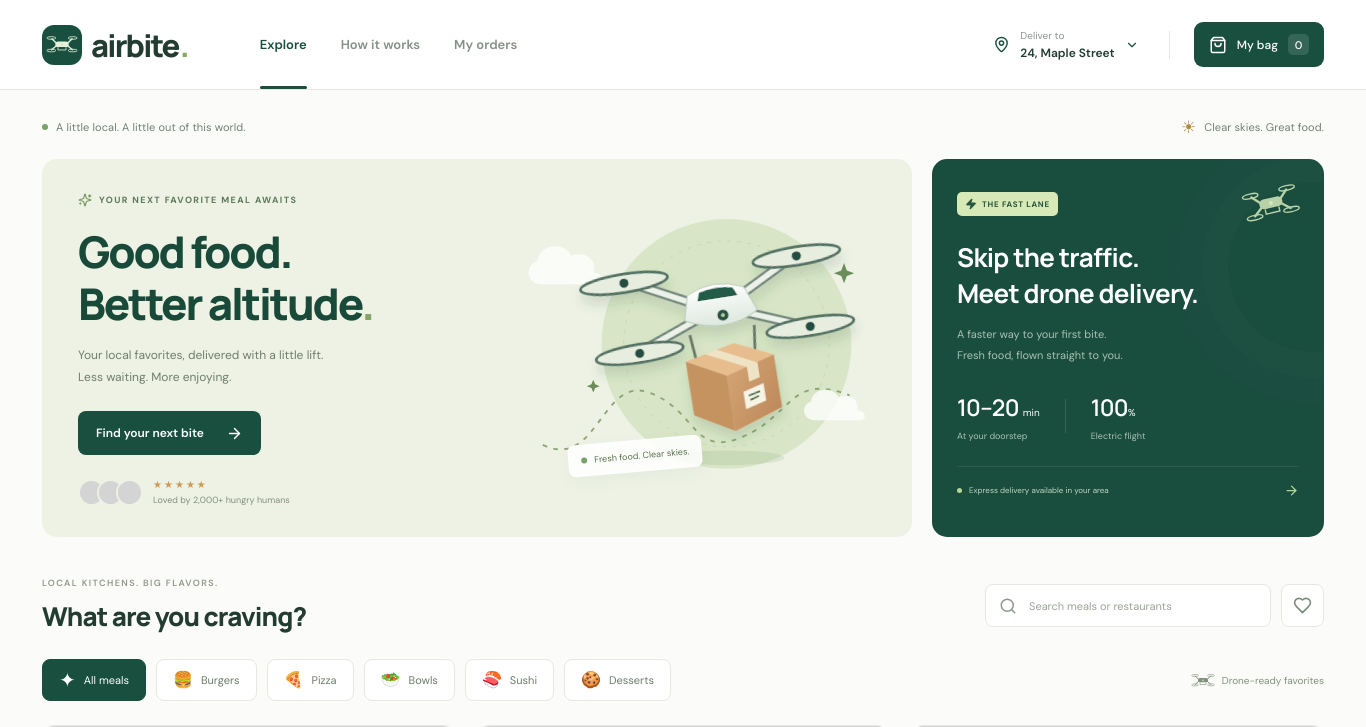
it: Cart and delivery › does not offer checkout for an empty bag
Click the button "My bag 0" at (1259, 44), box x1=1194 y1=22 x2=1324 y2=67
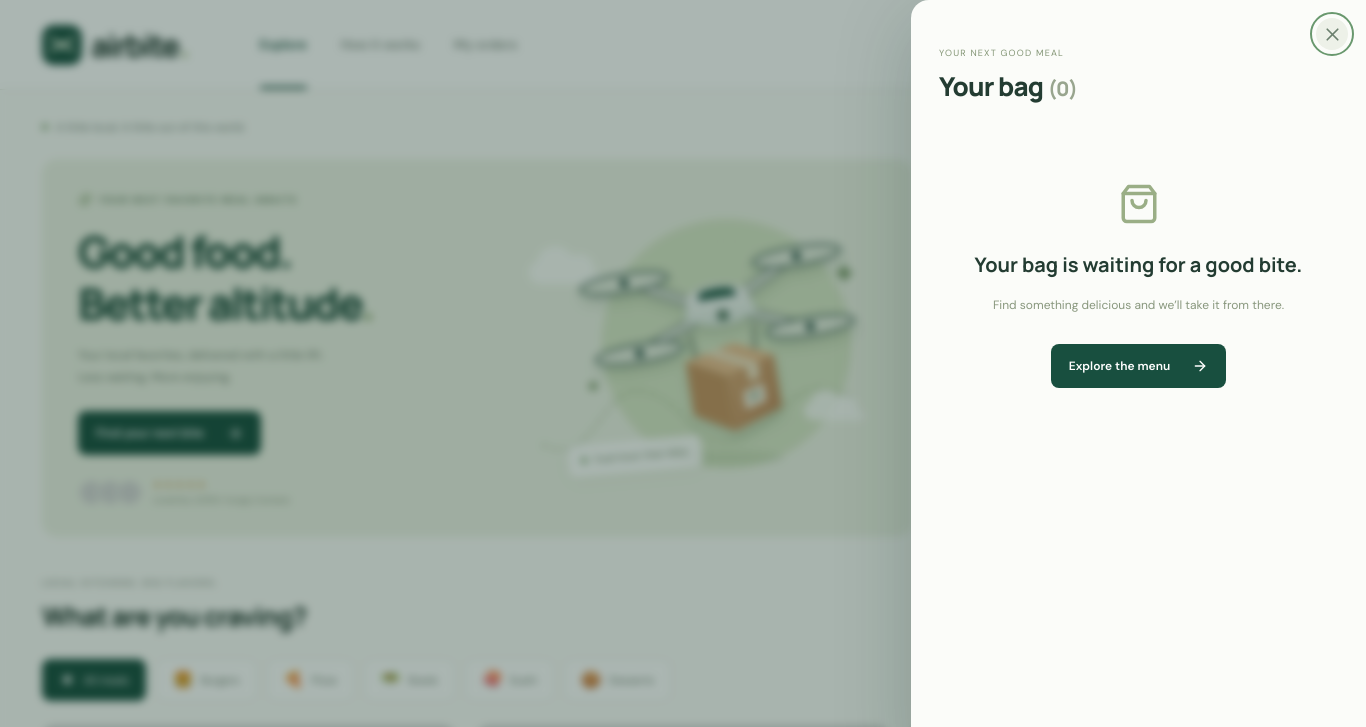
Check: the heading "Your bag is waiting for a good bite." is shown, box x1=974 y1=250 x2=1302 y2=280
